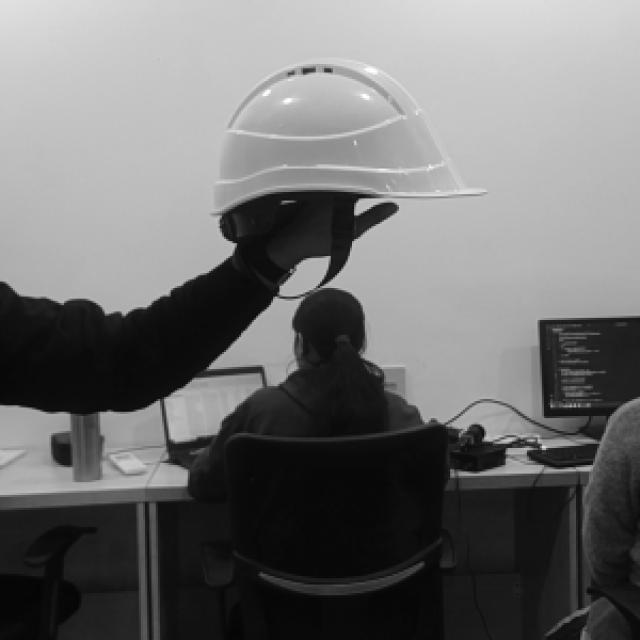safety_helmet: (210, 62, 488, 215)
